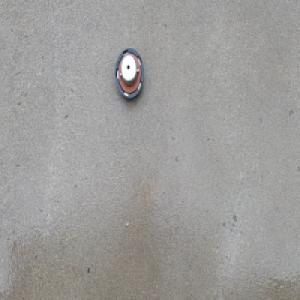FuelCap: (114, 47, 144, 101)
